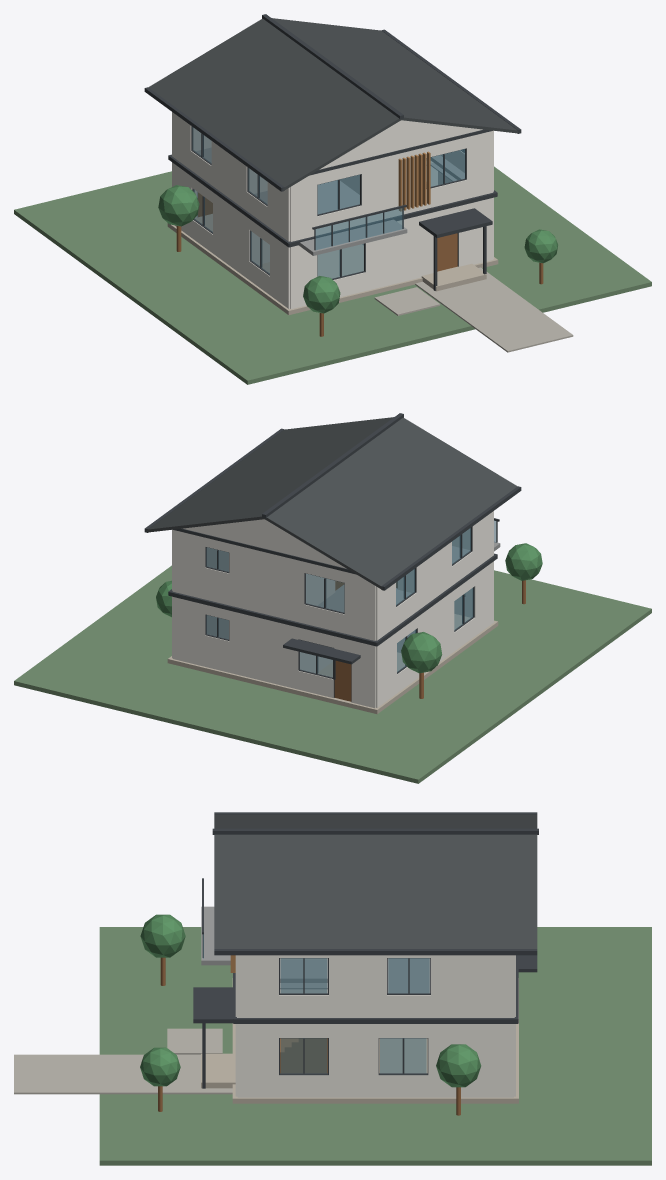
The model's file is house_200sqm_v3.glb.
The picture shows the model from 3 angles, top to bottom: view 1: azimuth 30°, elevation 25°; view 2: azimuth 150°, elevation 25°; view 3: azimuth 270°, elevation 25°; orthographic projection. The views are drawn at different scales.
Parts seen in each view (by area): view 1: site_ground_v2, rseg_house_200sqm_west, rseg_house_200sqm_east, wall_u_south, wall_g_south, site_driveway, wall_g_west, wall_u_west, arch_plinth, arch_gable_south, arch_balcony_glass, arch_balcony_slab (+19 smaller); view 2: site_ground_v2, rseg_house_200sqm_west, wall_u_north, wall_g_north, rseg_house_200sqm_east, wall_g_west, wall_u_west, arch_gable_north, arch_plinth, plant_crown_2, arch_floor_band_2, window_u_north_bed3_glass (+12 smaller); view 3: site_ground_v2, rseg_house_200sqm_east, wall_g_east, wall_u_east, site_driveway, rseg_house_200sqm_west, arch_plinth, slab_u_200sqm, roof_ridge, roof_gutter_e, window_g_east_dining_glass, window_u_east_bed2_glass (+11 smaller).
Boxes of the visible parts, <box> form: site_ground_v2: <box>14,166,651,384</box>; rseg_house_200sqm_west: <box>148,18,401,190</box>; rseg_house_200sqm_east: <box>272,18,517,133</box>; wall_u_south: <box>290,131,493,241</box>; wall_g_south: <box>290,198,493,309</box>; site_driveway: <box>415,267,573,352</box>; wall_g_west: <box>172,162,290,308</box>; wall_u_west: <box>172,112,290,241</box>; arch_plinth: <box>167,214,498,314</box>; arch_gable_south: <box>319,120,482,169</box>; arch_balcony_glass: <box>315,208,403,249</box>; arch_balcony_slab: <box>299,219,407,255</box>; site_ground_v2: <box>14,565,651,783</box>; rseg_house_200sqm_west: <box>264,417,517,589</box>; wall_u_north: <box>172,530,375,640</box>; wall_g_north: <box>172,597,375,708</box>; rseg_house_200sqm_east: <box>146,417,393,532</box>; wall_g_west: <box>375,561,493,707</box>; wall_u_west: <box>375,511,493,640</box>; arch_gable_north: <box>183,519,346,568</box>; arch_plinth: <box>167,614,498,713</box>; plant_crown_2: <box>401,632,442,673</box>; arch_floor_band_2: <box>168,590,377,646</box>; window_u_north_bed3_glass: <box>306,574,344,612</box>; site_ground_v2: <box>99,927,651,1165</box>; rseg_house_200sqm_east: <box>214,834,537,948</box>; wall_g_east: <box>237,1024,513,1097</box>; wall_u_east: <box>237,955,513,1017</box>; site_driveway: <box>14,1054,232,1094</box>; rseg_house_200sqm_west: <box>214,814,537,828</box>; arch_plinth: <box>232,978,518,1103</box>; slab_u_200sqm: <box>280,958,430,993</box>; roof_ridge: <box>212,828,538,834</box>; roof_gutter_e: <box>214,949,537,955</box>; window_g_east_dining_glass: <box>280,1038,327,1073</box>; window_u_east_bed2_glass: <box>280,958,327,993</box>.
Bounding box in the file's own units: 20 × 8.74 × 23.1.
